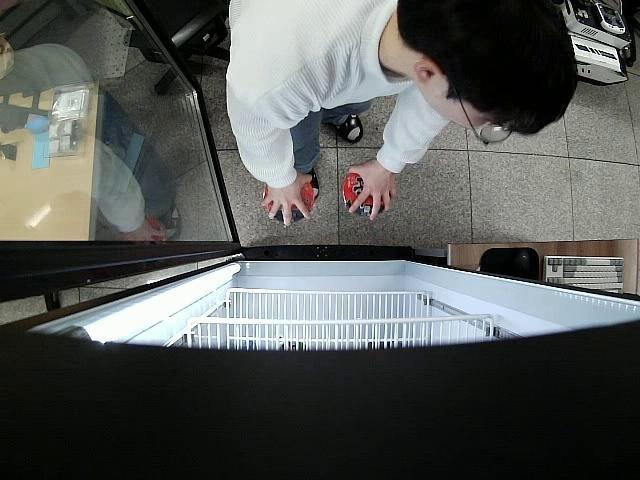01_ShinRamen_L: (342, 172, 390, 218), (266, 182, 319, 222)
